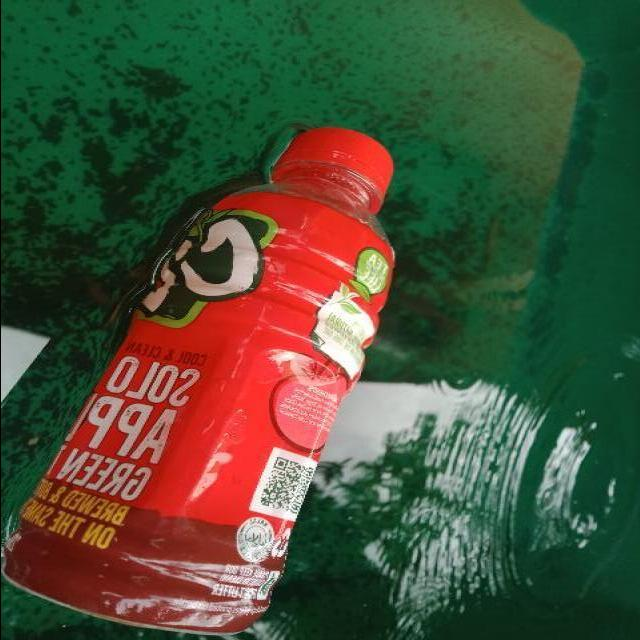Bottle: (0, 110, 406, 640)
